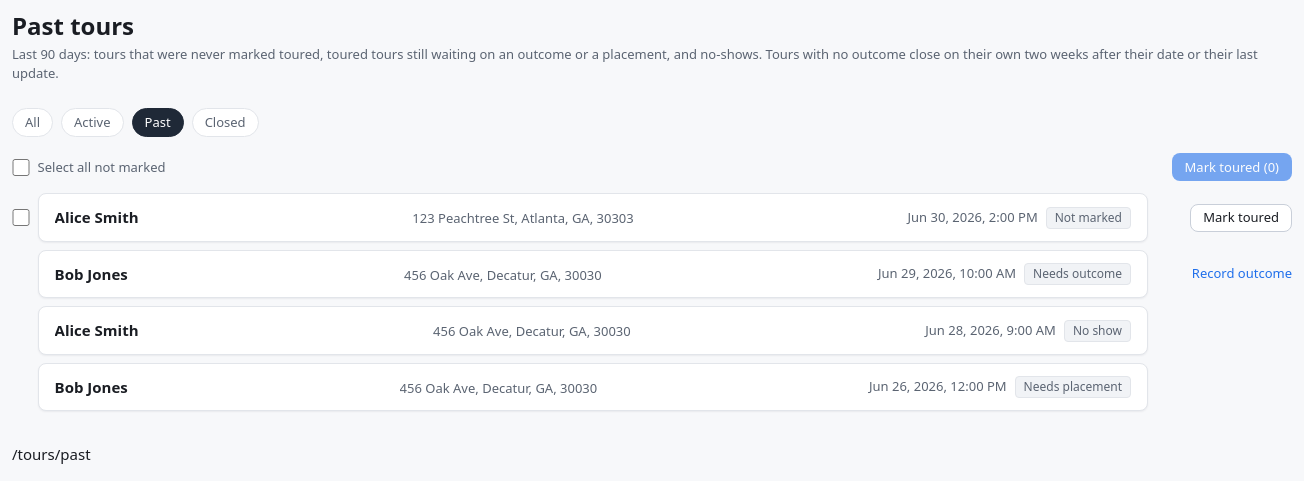
ToursPage - Past view › row actions: Mark toured + checkbox on Not marked; Record outcome deep link (with state.back) on Needs outcome; none on No show or Needs placement
Expected: the text "Needs placement" is shown, [1015,376,1131,398]
Click the link "Record outcome".
click(1242, 274)  # box [1192,264,1292,284]
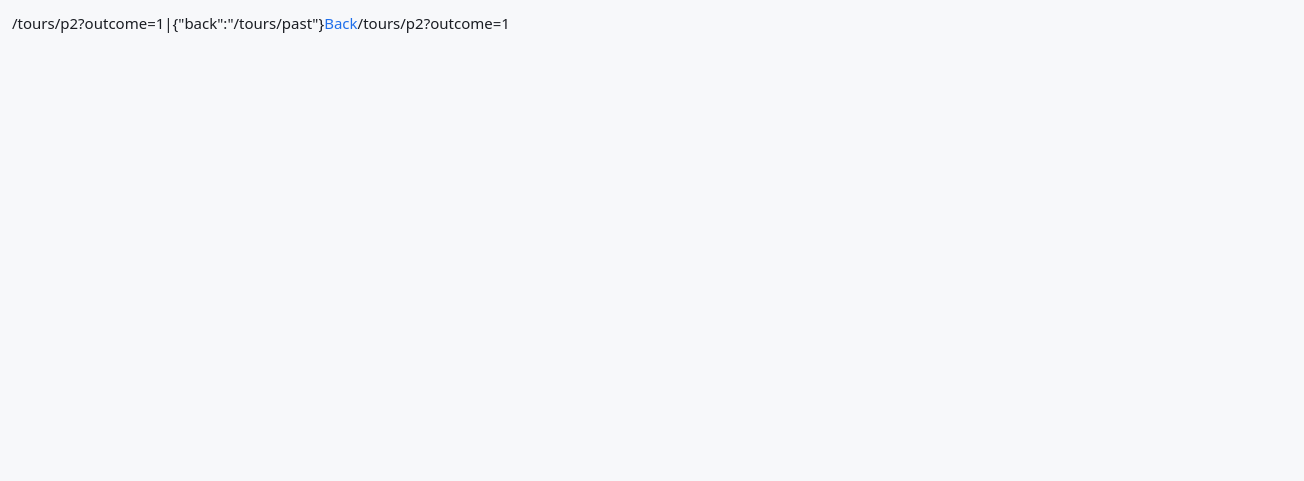
Now the text with test id "loc" reads "/tours/p2?outcome=1|{\"back\":\"/tours/past\"}", box [173,13,324,33]
